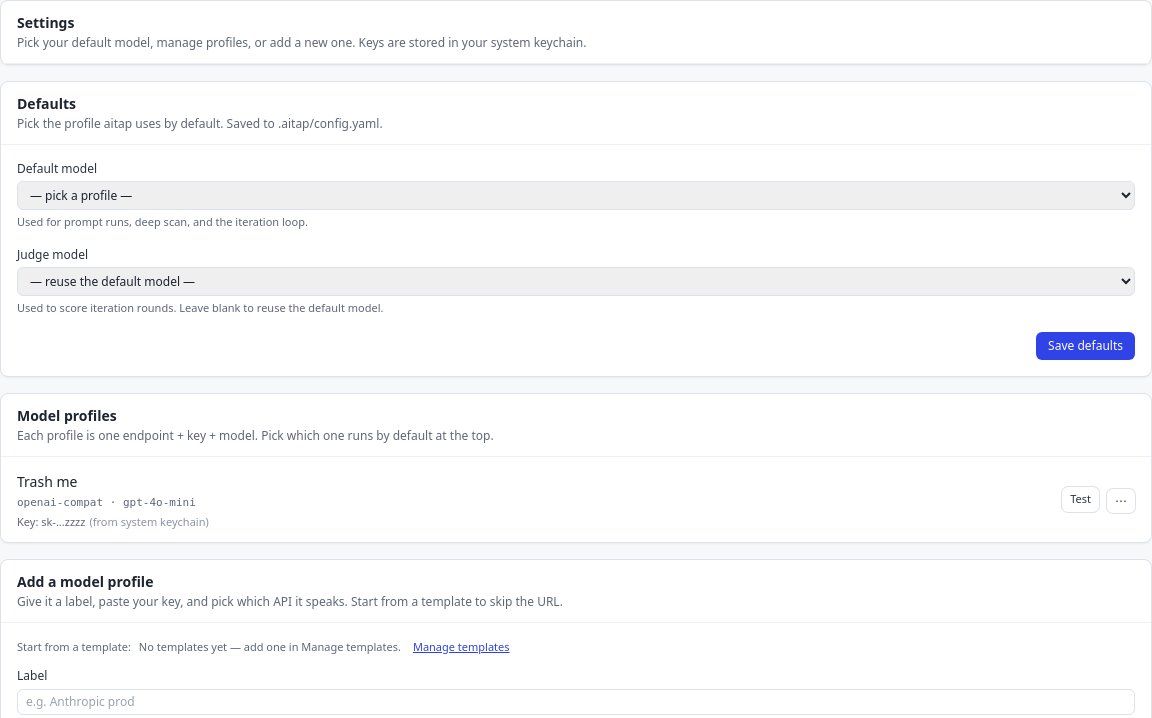
Settings page — multi-provider profile UI › delete flow opens confirm, Yes hits DELETE, and the row disappears
Expected: the button "Trash me" is shown, [17, 472, 77, 492]
Open the per-row menu (aria-label includes the label).
Click the button named "more actions for trash me".
click(1121, 500)  # box [1107, 488, 1135, 512]
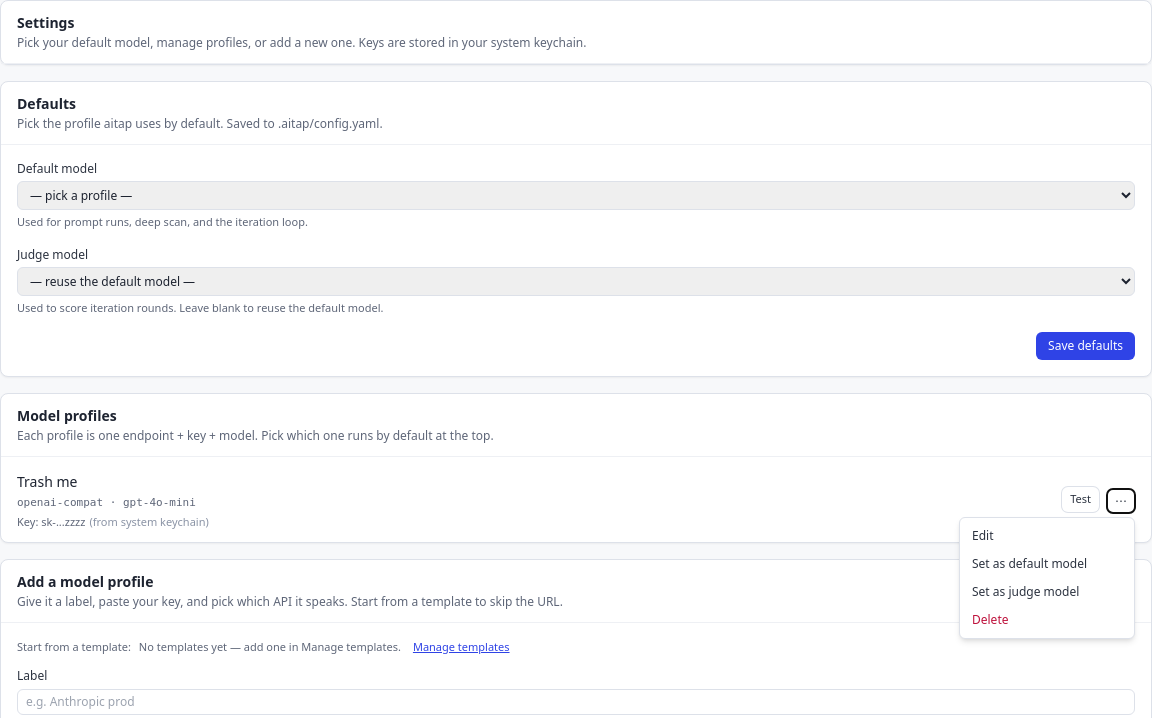
Click the menu item "Delete".
click(1047, 620)  # box [960, 606, 1134, 634]
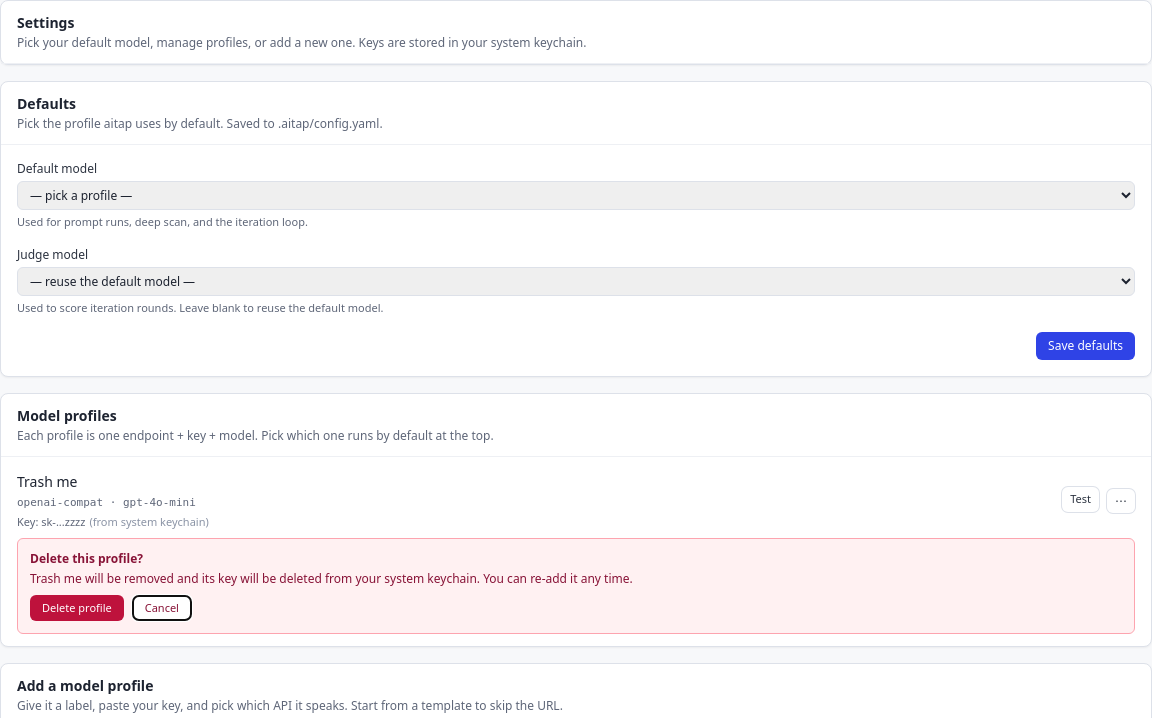
Click the button "Delete profile".
click(77, 608)  # box [30, 595, 124, 621]
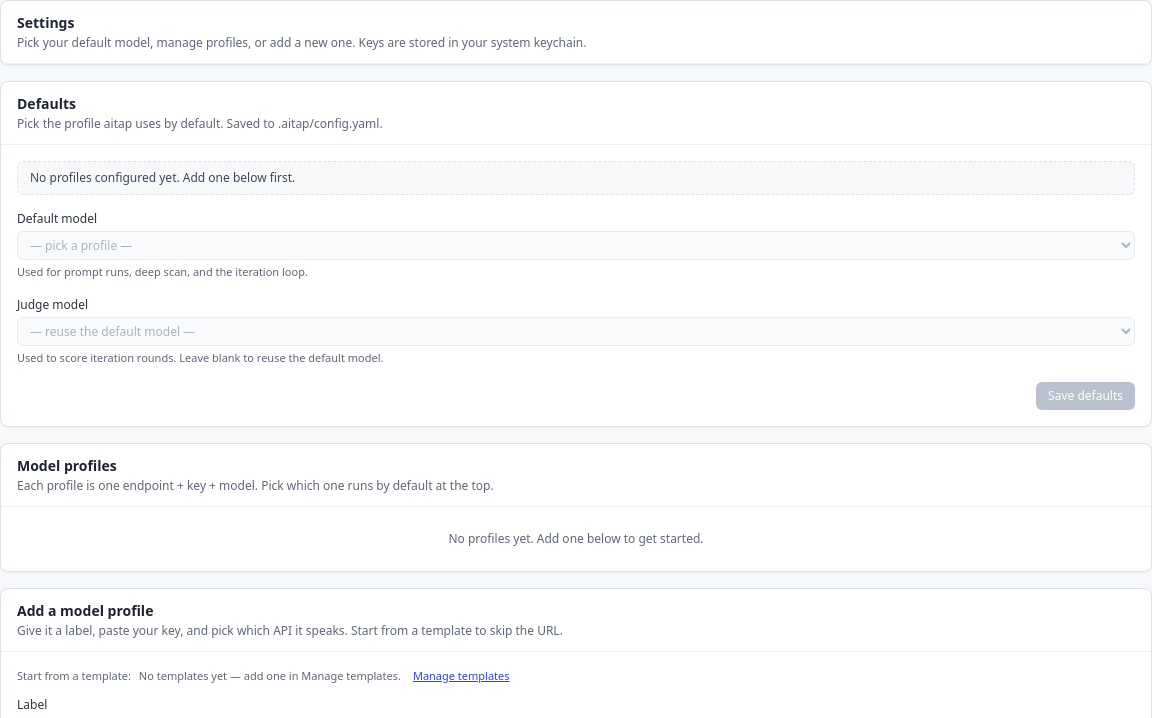
Expected: the button "Trash me" is gone
